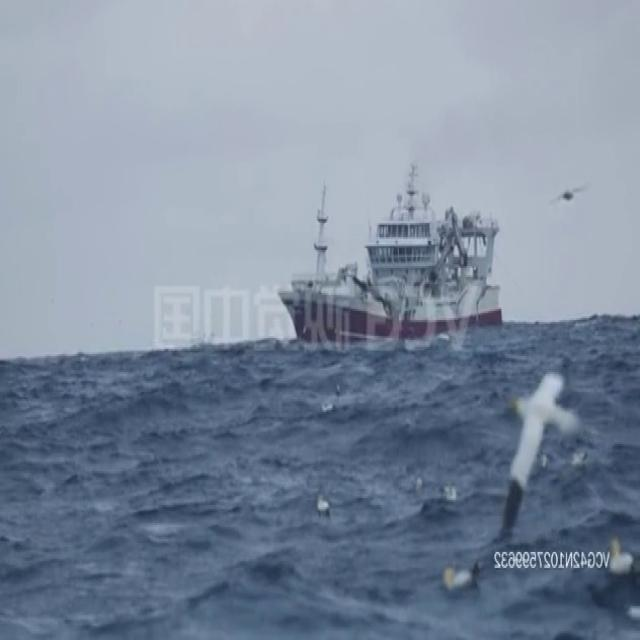passenger ship: (280, 162, 508, 343)
